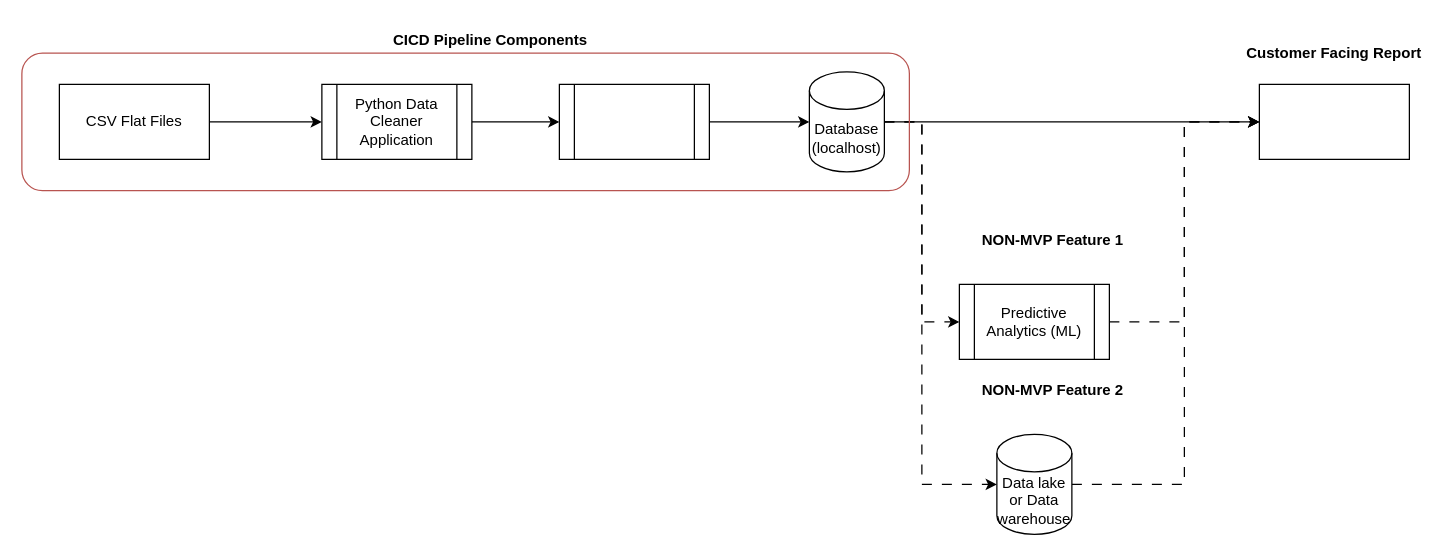
Image size: 1450x556. Some labels were removed from this diagram. Here are the shapes that lost their labels. From the top down, the box of each, then its label:
(558, 83, 709, 159): Automated Testing
(1258, 83, 1409, 159): PowerBI Report
